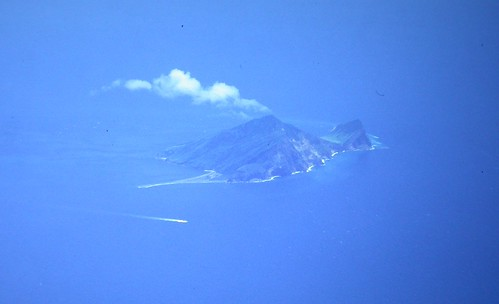turtleIslandTop: (156, 105, 387, 186)
